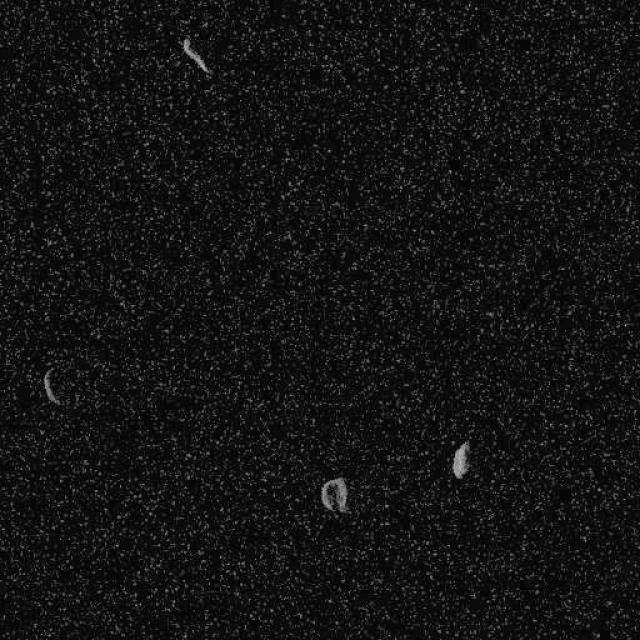D2: (180, 36, 214, 78), (320, 476, 349, 514), (451, 440, 471, 479), (41, 367, 61, 405)
